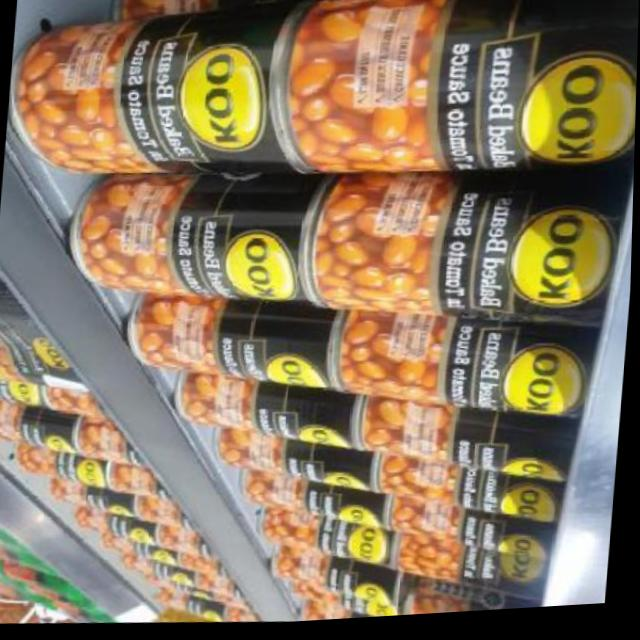Beans: (432, 0, 640, 183), (120, 2, 319, 180), (431, 168, 624, 332), (171, 168, 323, 312), (456, 318, 599, 432), (446, 396, 572, 490), (224, 306, 332, 390), (317, 513, 397, 576), (322, 550, 395, 604), (499, 536, 549, 599), (69, 440, 122, 494), (43, 403, 90, 456)
